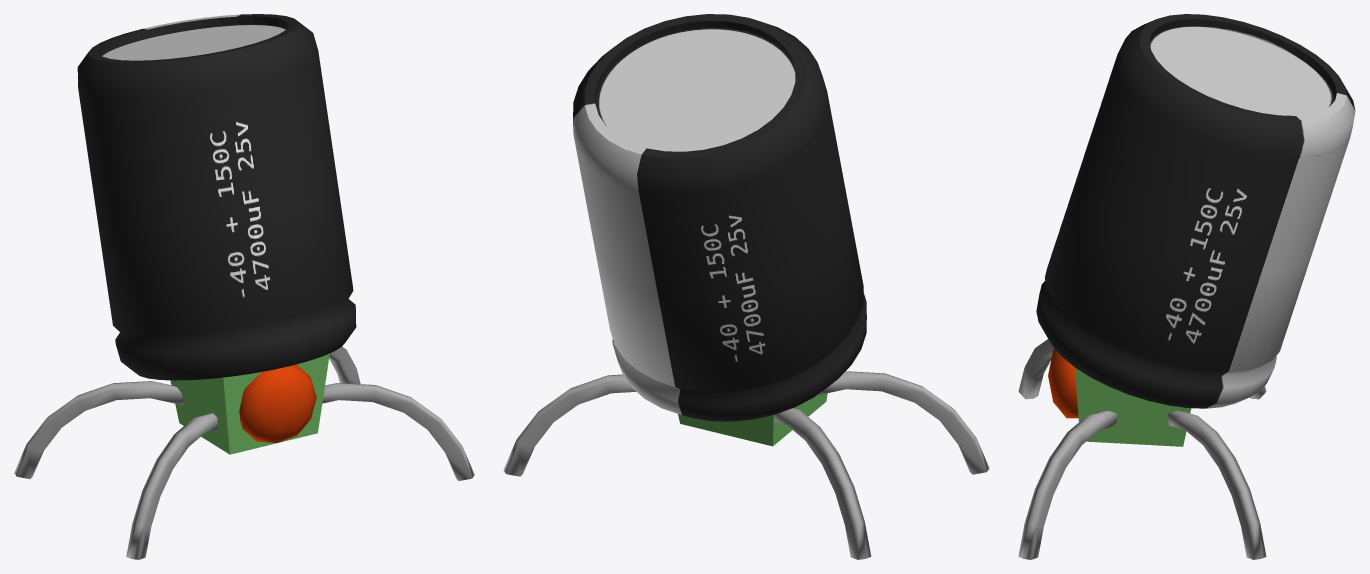
Rendered from capaciterMonster_FBX.fbx.
3 renders of one model, left to right at view 1: azimuth 30°, elevation 25°; view 2: azimuth 150°, elevation 25°; view 3: azimuth 270°, elevation 25°, orthographic. The views are drawn at different scales.
Parts seen in each view (by area): view 1: Cap, Body, Eye, Leg_R_B, Leg_R_F, Leg_L_F, Leg_L_B; view 2: Cap, Leg_R_F, Leg_R_B, Leg_L_B, Body; view 3: Cap, Body, Leg_L_F, Leg_L_B, Eye, Leg_R_F.
Boxes of the visible parts, x1,y1,x2,y2 form: Cap: (77,14,356,380); Body: (170,353,329,454); Eye: (239,364,316,442); Leg_R_B: (14,381,183,478); Leg_R_F: (126,413,218,559); Leg_L_F: (322,383,474,480); Leg_L_B: (329,346,360,384); Cap: (573,14,866,421); Leg_R_F: (817,371,989,474); Leg_R_B: (774,408,871,559); Leg_L_B: (503,374,636,476); Body: (678,393,827,446); Cap: (1036,14,1355,408); Body: (1075,367,1191,446); Leg_L_F: (1018,410,1117,559); Leg_L_B: (1167,410,1266,559); Eye: (1048,348,1078,418); Leg_R_F: (1018,339,1053,399).
Size of the model in its own units: 3.27 by 3.89 by 2.72.
